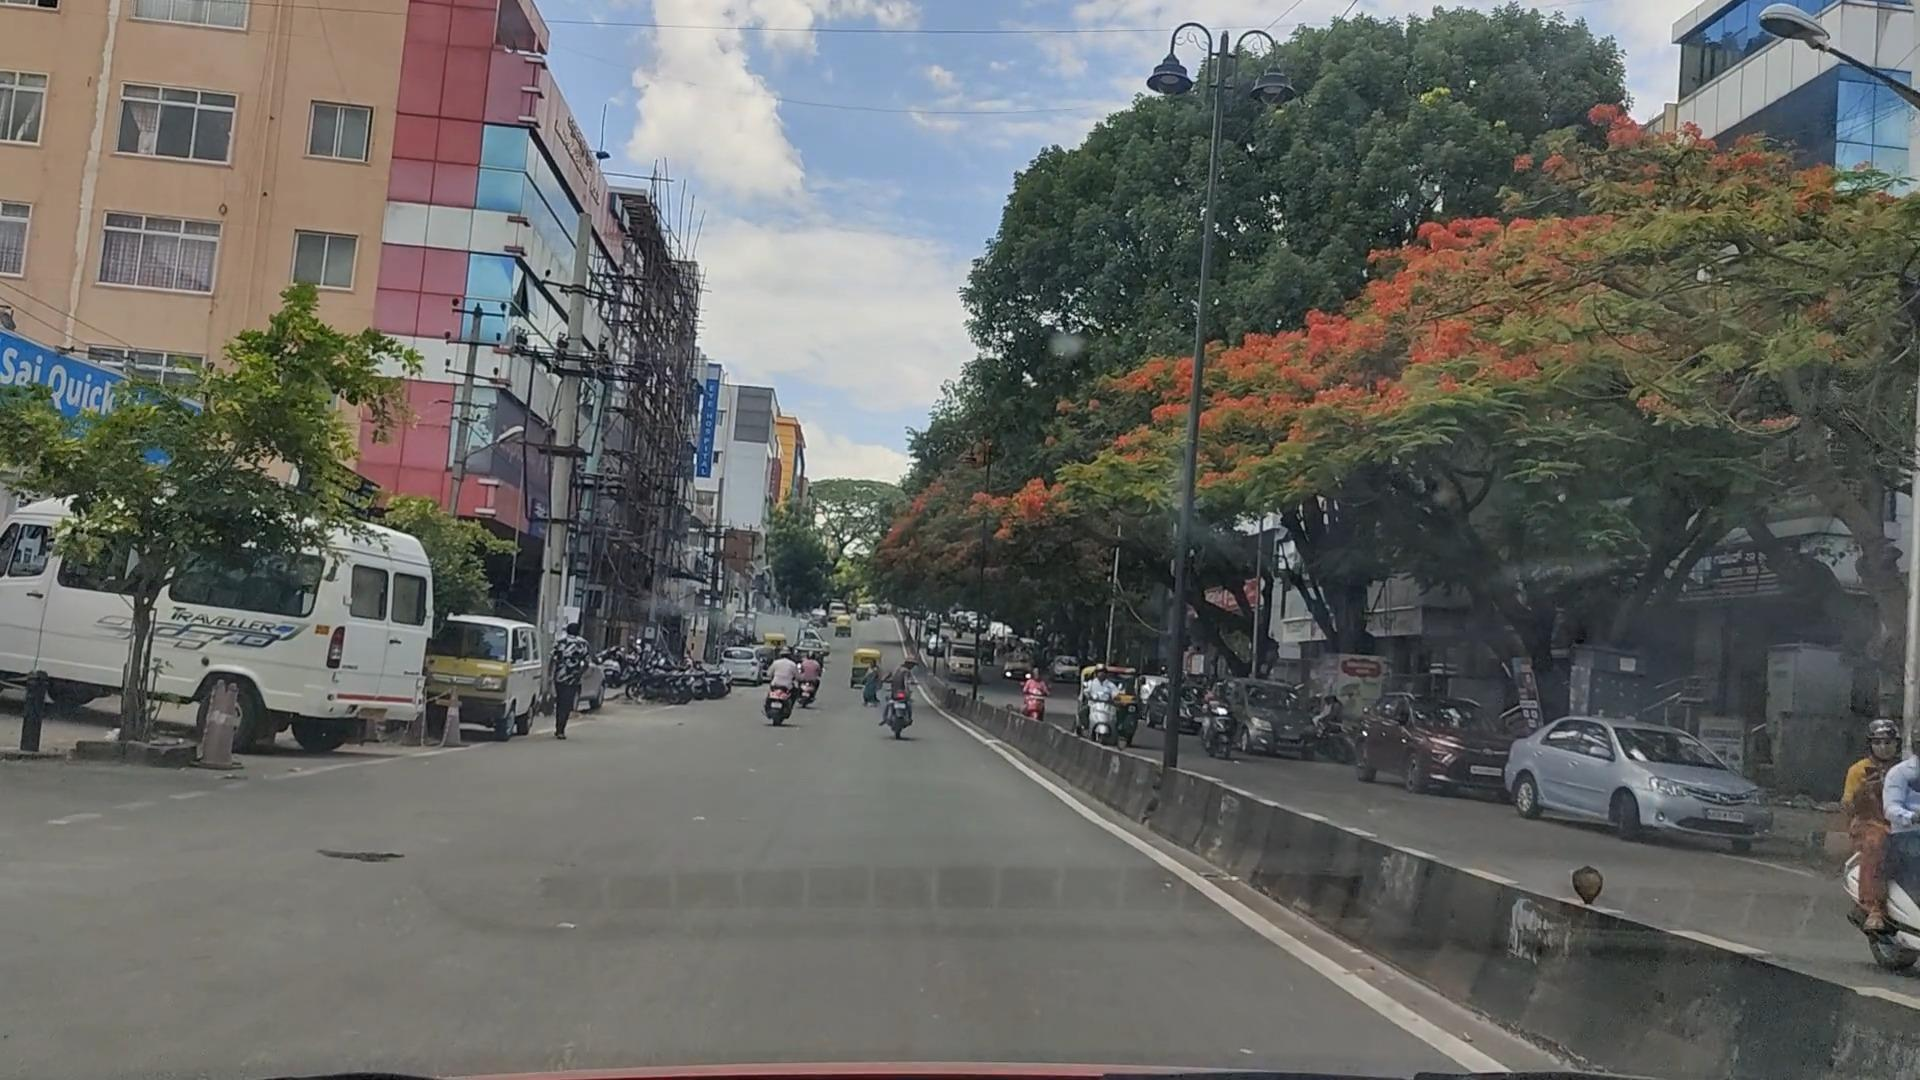RoadDamages: (273, 833, 425, 888)
